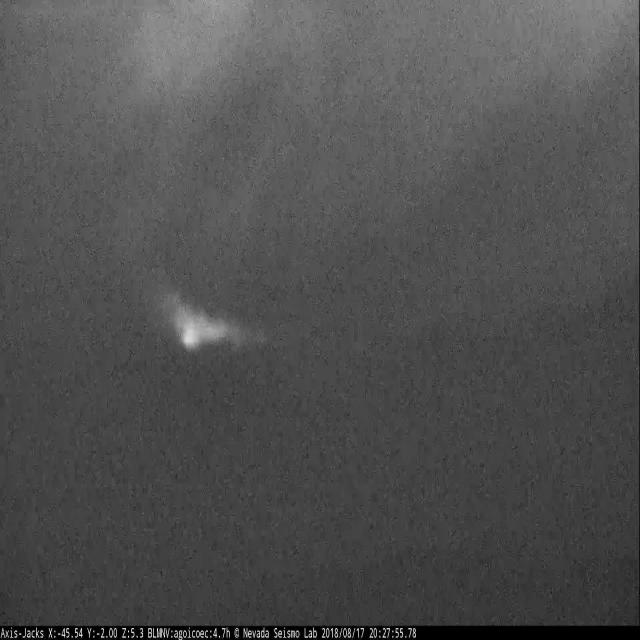smoke: (151, 254, 276, 354)
